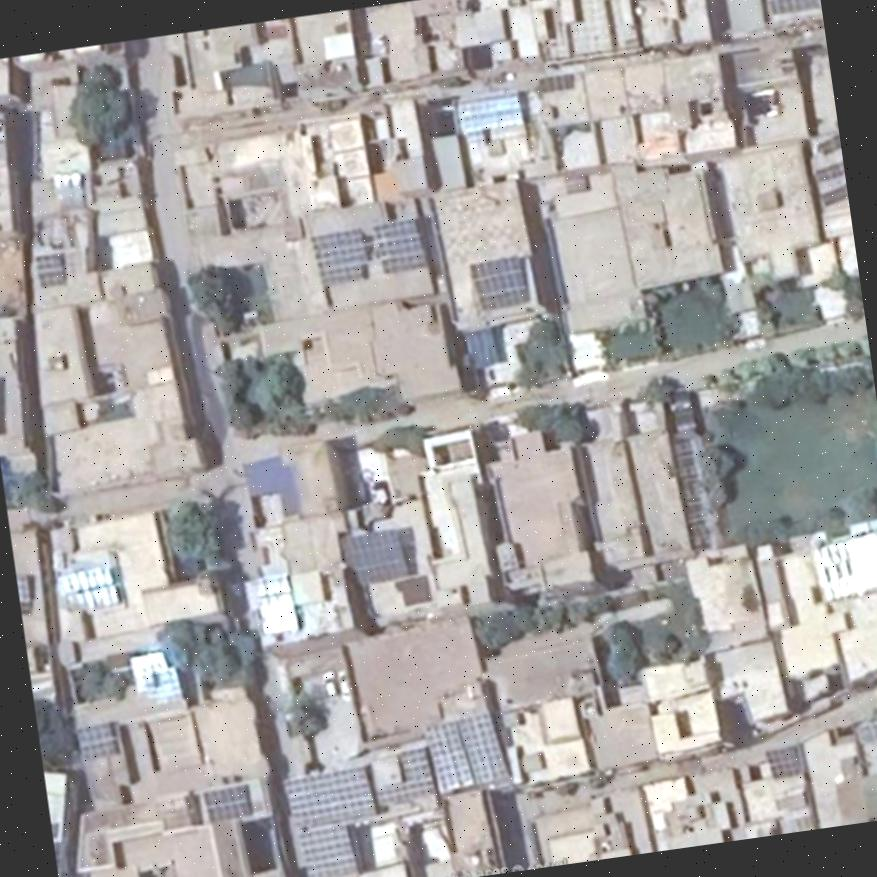Solarpanel: (283, 768, 384, 877), (423, 714, 510, 793), (369, 747, 434, 806), (309, 225, 372, 283), (340, 528, 407, 582), (467, 253, 527, 309), (374, 215, 426, 269), (58, 565, 116, 609), (459, 93, 521, 132), (256, 575, 298, 632), (202, 785, 249, 822), (78, 724, 117, 757), (765, 747, 799, 779), (34, 253, 62, 285), (766, 0, 819, 14), (820, 185, 847, 204), (818, 132, 840, 155), (815, 164, 842, 179)
